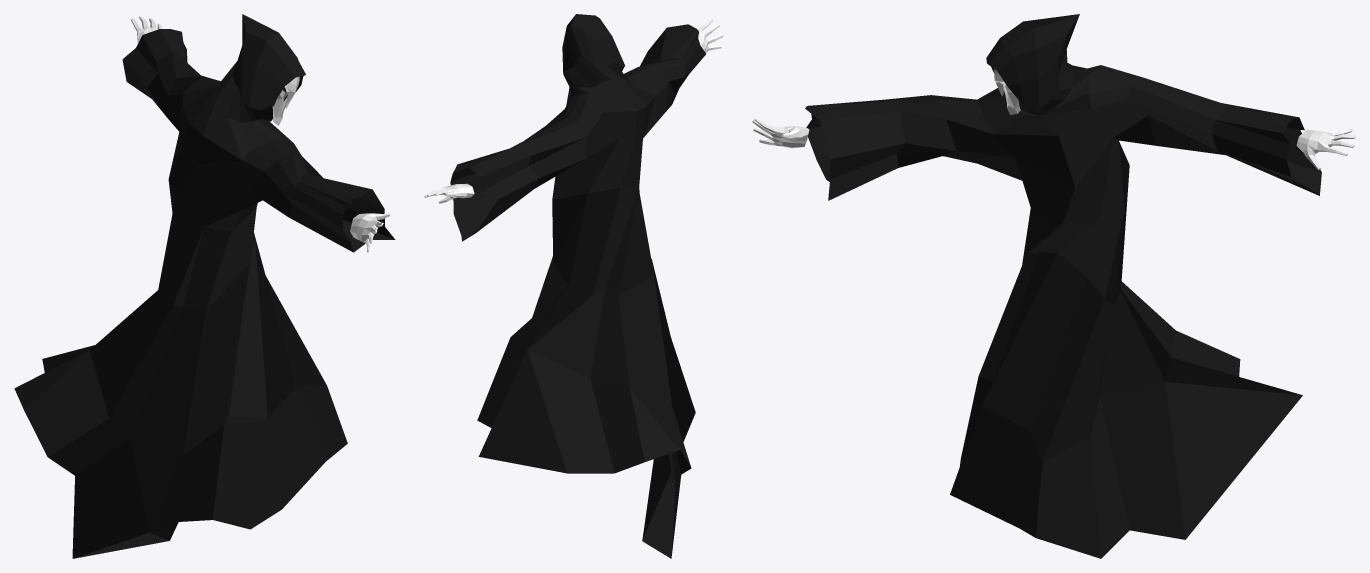
Rendered from ReaperAttack(33).obj.
The picture shows the model from 3 angles, left to right: view 1: azimuth 30°, elevation 25°; view 2: azimuth 150°, elevation 25°; view 3: azimuth 270°, elevation 25°; orthographic projection. The views are drawn at different scales.
Visible parts, largest first — view 1: Plane003; view 2: Plane003; view 3: Plane003.
Part boxes in pixels (x1=…): Plane003: x1=14, y1=14, x2=395, y2=558; Plane003: x1=424, y1=14, x2=723, y2=558; Plane003: x1=752, y1=14, x2=1355, y2=558.
Bounding box in the file's own units: 118 × 229 × 214.
